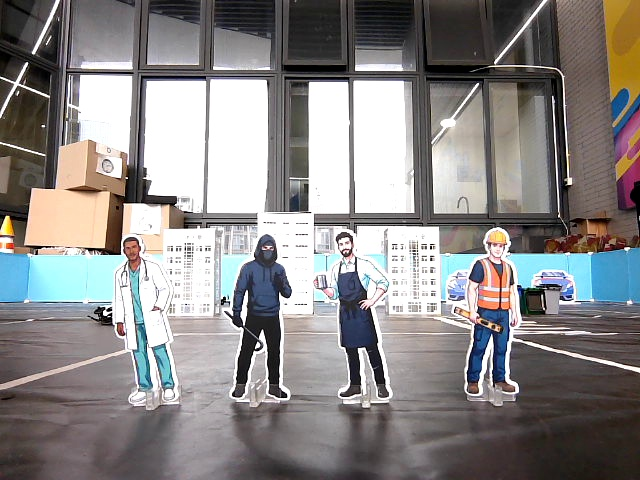community_person: (310, 226, 398, 414), (105, 229, 188, 417), (450, 221, 530, 412)
outsider: (219, 225, 302, 416)
